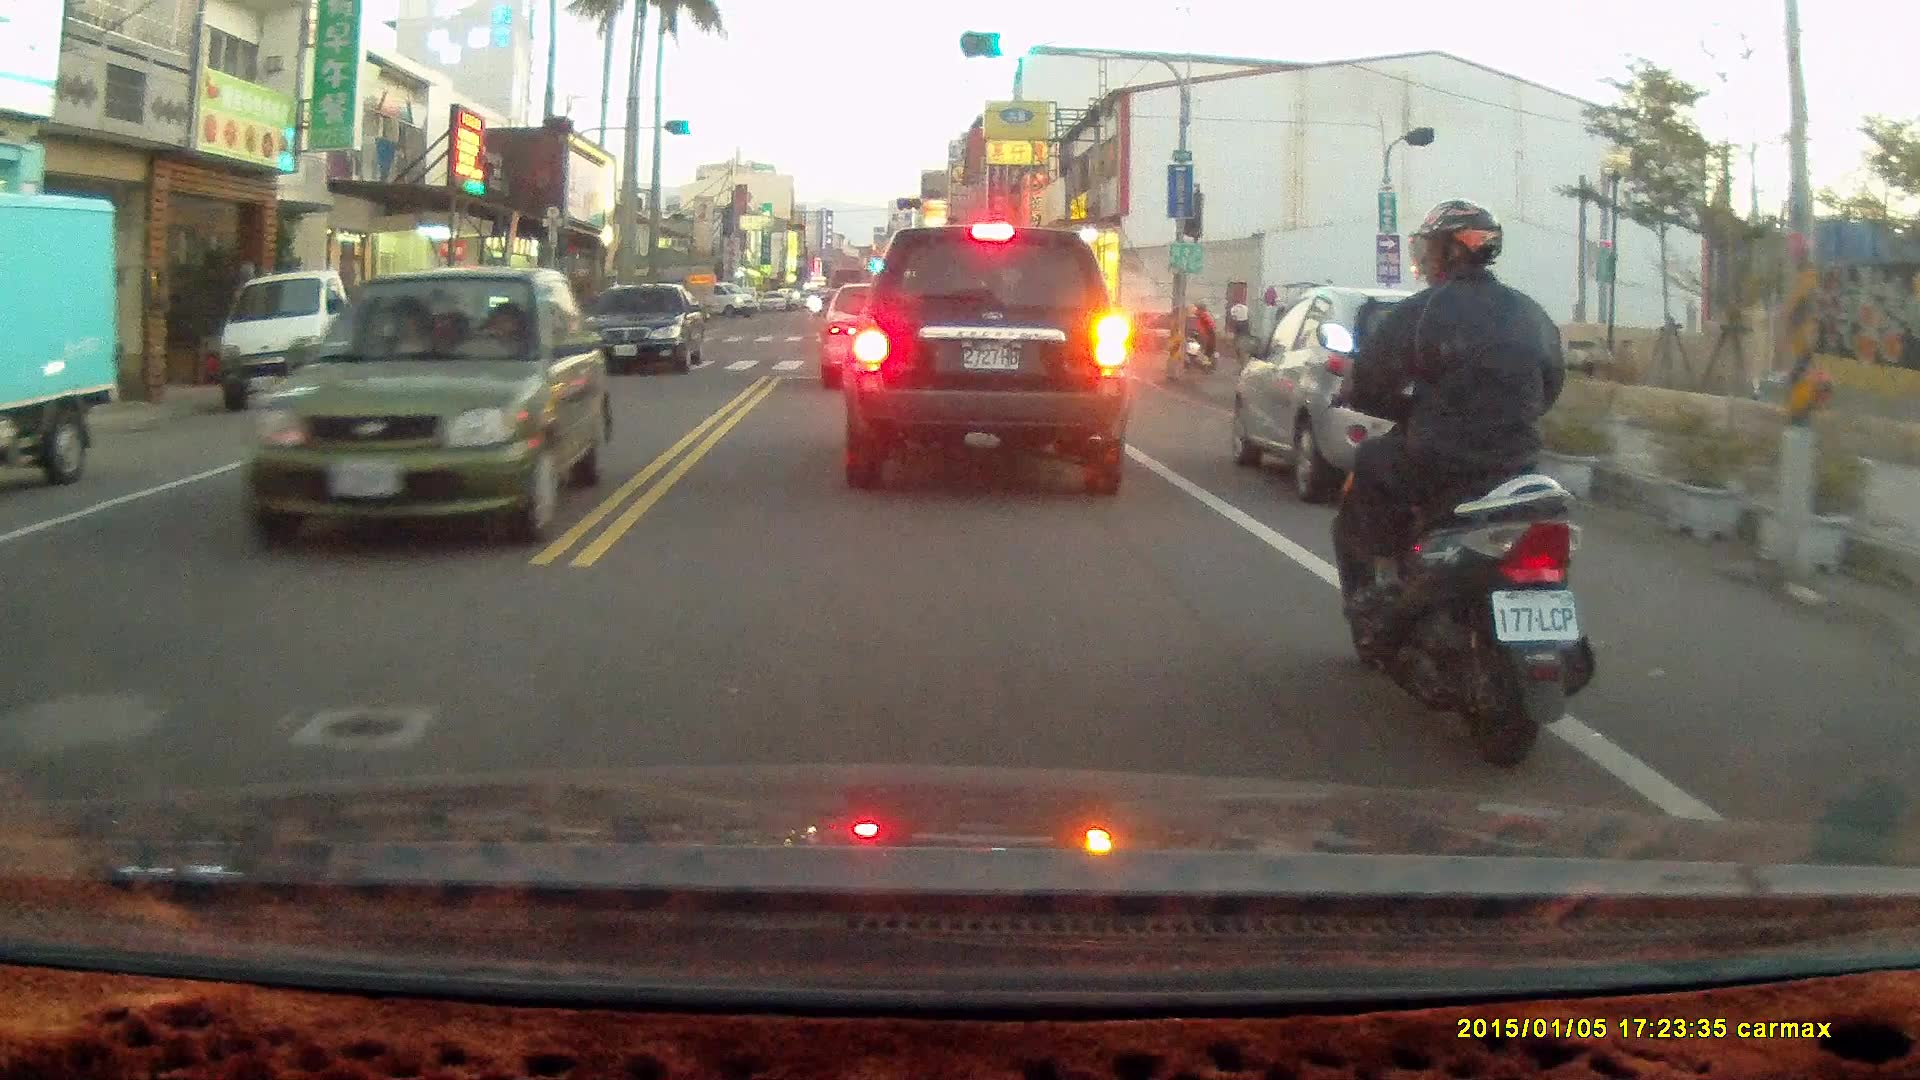pedestrian: (1227, 293, 1253, 361)
rider: (1322, 198, 1602, 775), (1167, 293, 1221, 373)
vehicle: (237, 264, 605, 551), (845, 223, 1136, 497), (1231, 287, 1555, 522), (1, 191, 122, 491), (217, 268, 403, 401), (821, 283, 939, 394), (581, 283, 711, 379)
